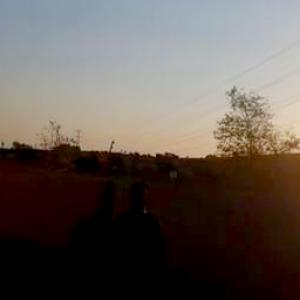follow: (107, 177, 171, 299)
